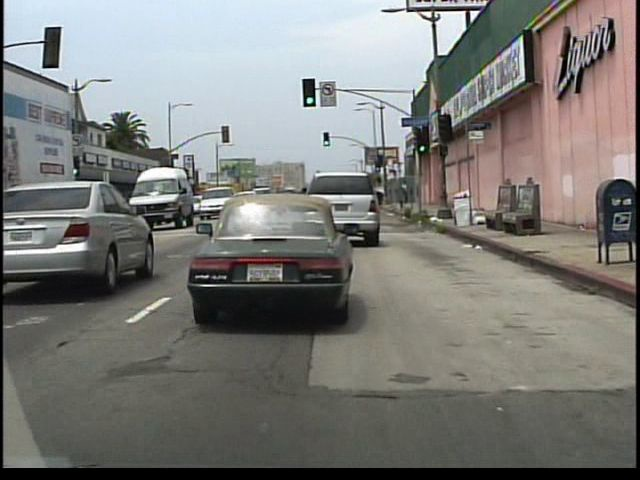person: (401, 180, 411, 204)
